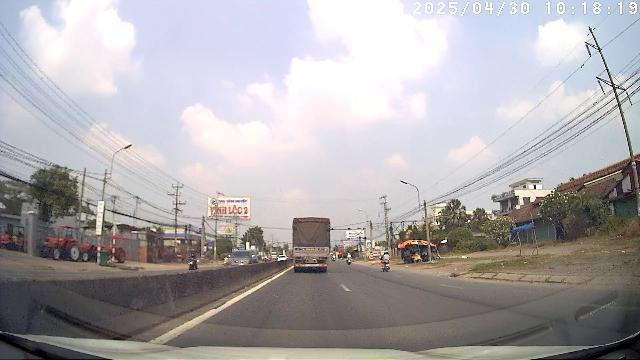423a-duong-nguoi-di-bo-sang-ngang-1: (367, 242, 371, 246)
